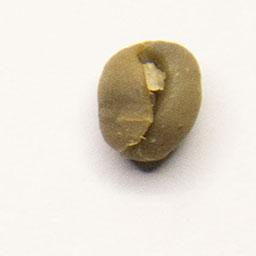peaberry: (94, 36, 205, 167)
